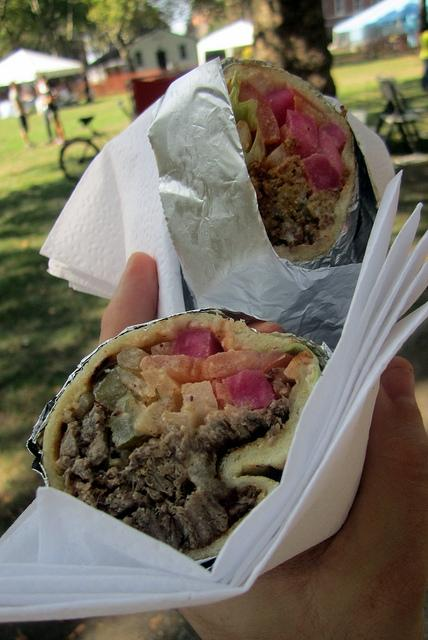tomato: (222, 369, 276, 411), (300, 153, 344, 200), (286, 110, 318, 160), (169, 329, 220, 358), (316, 130, 344, 177)
